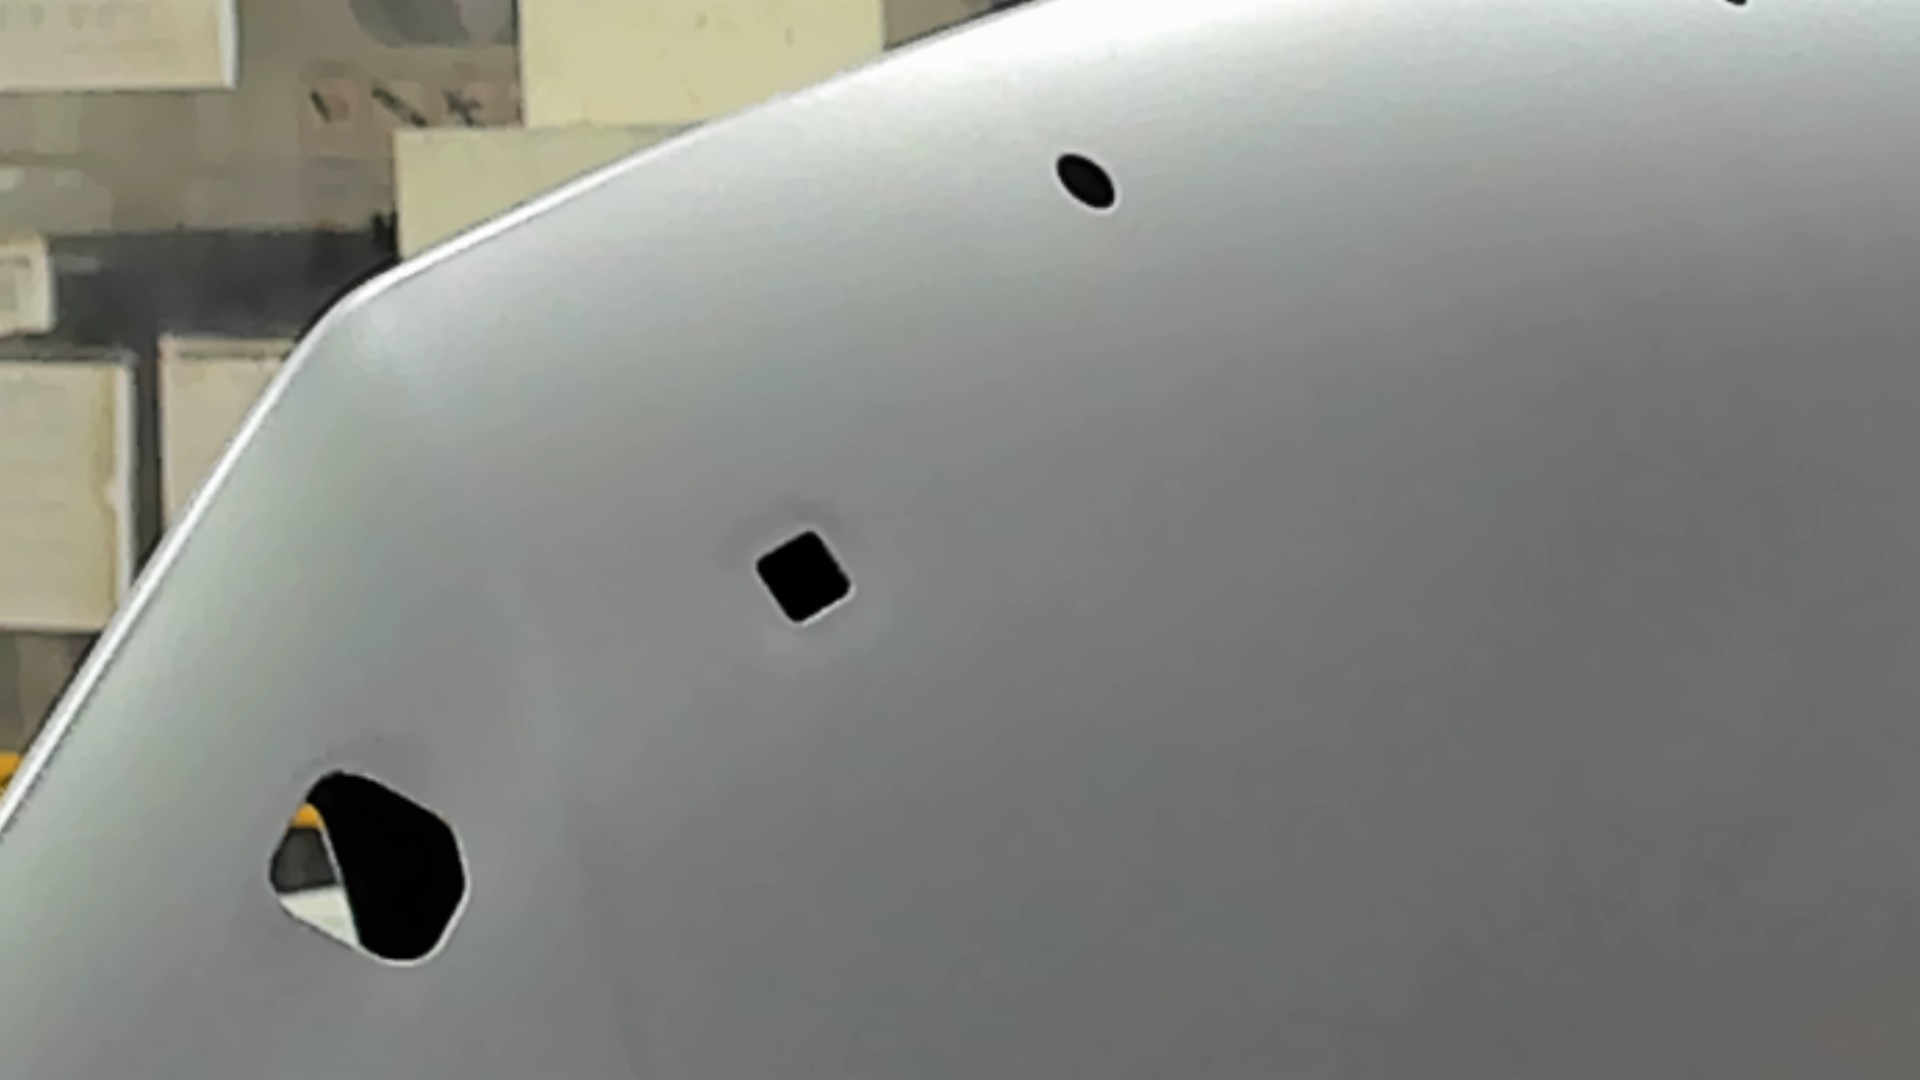chico: (1048, 145, 1125, 218)
grande: (262, 765, 477, 978)
mediano: (752, 522, 860, 636)
